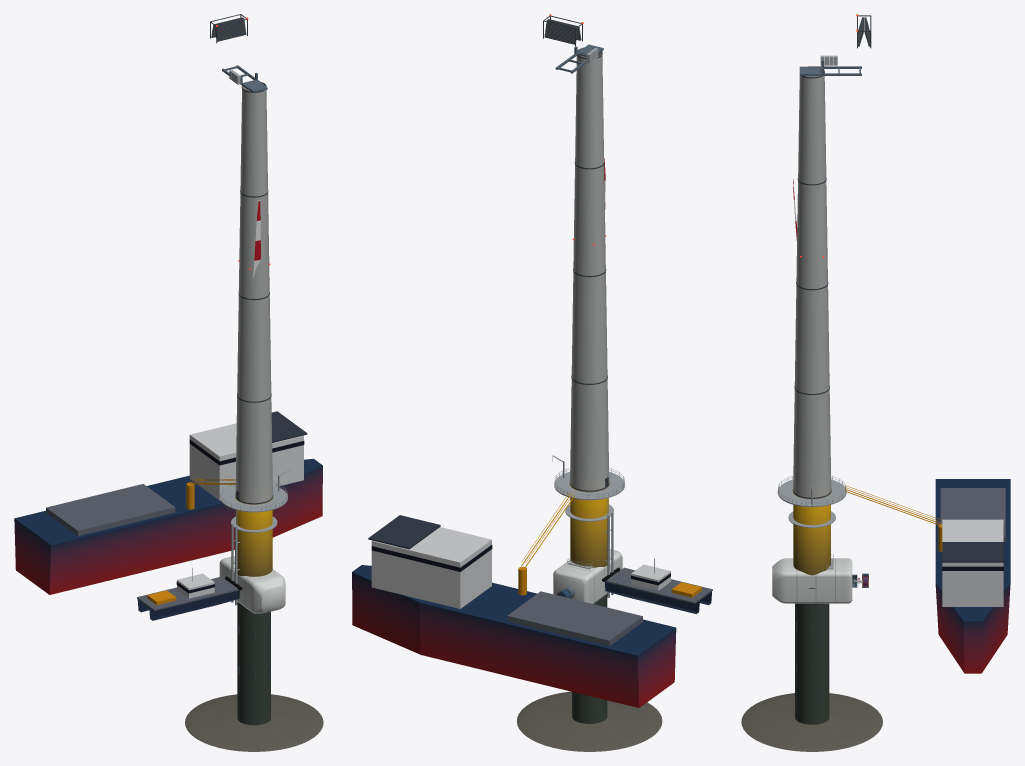
The picture shows the model from 3 angles, left to right: view 1: azimuth 30°, elevation 25°; view 2: azimuth 150°, elevation 25°; view 3: azimuth 270°, elevation 25°; orthographic projection. The views are drawn at different scales.
Visible parts, largest first — view 1: sov, tower, scour, monopile, ctv, transition_piece, nacelle_shell, tp_detail, cooler; view 2: sov, tower, scour, ctv, transition_piece, nacelle_shell, tp_detail, monopile, cooler; view 3: sov, tower, scour, monopile, nacelle_shell, transition_piece, tp_detail, bedplate.
Part boxes in pixels (bbox=[...]): sov: bbox=[14, 411, 322, 594]; tower: bbox=[235, 82, 272, 504]; scour: bbox=[185, 694, 323, 751]; monopile: bbox=[237, 602, 270, 725]; ctv: bbox=[137, 567, 242, 620]; transition_piece: bbox=[235, 497, 273, 576]; nacelle_shell: bbox=[219, 556, 285, 613]; tp_detail: bbox=[220, 470, 289, 605]; cooler: bbox=[210, 14, 247, 43]; sov: bbox=[352, 490, 676, 707]; tower: bbox=[570, 48, 609, 491]; scour: bbox=[516, 691, 662, 751]; ctv: bbox=[602, 558, 712, 613]; transition_piece: bbox=[569, 484, 609, 567]; nacelle_shell: bbox=[553, 549, 622, 603]; tp_detail: bbox=[552, 455, 624, 597]; monopile: bbox=[572, 594, 607, 723]; cooler: bbox=[543, 16, 582, 46]; sov: bbox=[845, 479, 1010, 673]; tower: bbox=[793, 69, 831, 499]; scour: bbox=[741, 693, 882, 751]; monopile: bbox=[795, 603, 829, 724]; nacelle_shell: bbox=[772, 558, 852, 603]; transition_piece: bbox=[792, 491, 831, 575]; tp_detail: bbox=[777, 475, 846, 527]; bedplate: bbox=[799, 60, 861, 75].
Bounding box in the file's own units: 88 × 202 × 70.3.
